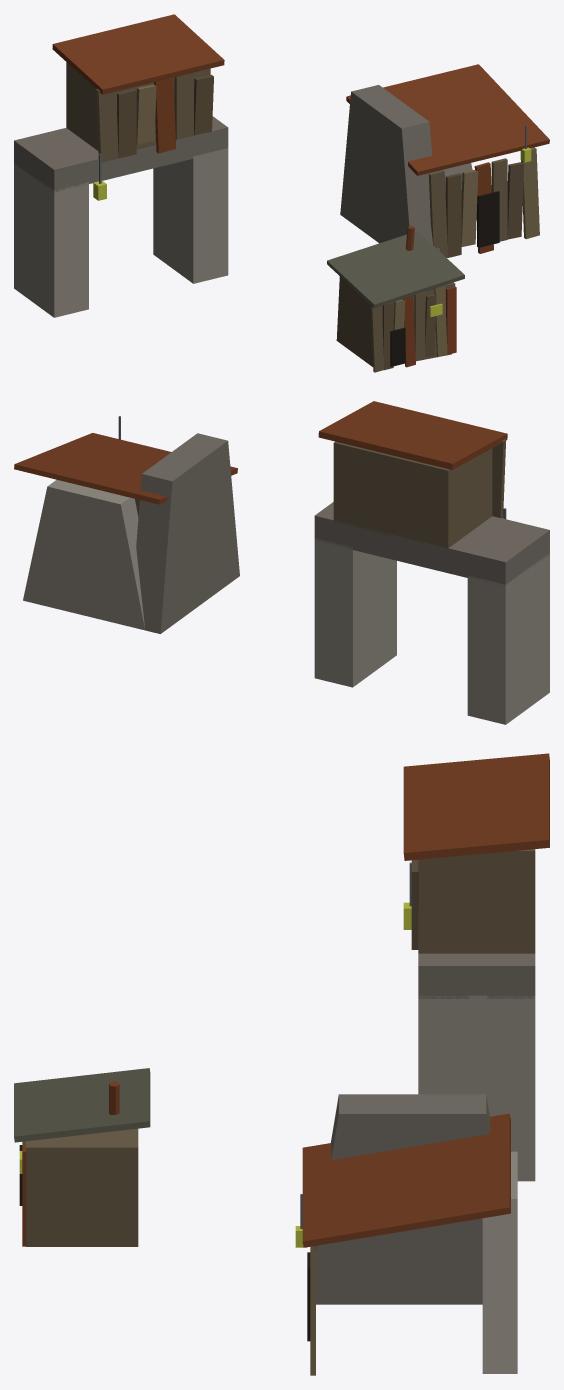
Rendered from ratfolk_compound_broken.glb.
The picture shows the model from 3 angles, top to bottom: view 1: azimuth 30°, elevation 25°; view 2: azimuth 150°, elevation 25°; view 3: azimuth 270°, elevation 25°; orthographic projection. The views are drawn at different scales.
Parts seen in each view (by area): view 1: ratfolk_compound_piece3, ratfolk_compound_piece7, ratfolk_compound_piece9, ratfolk_compound_piece0, ratfolk_compound_piece1, ratfolk_compound_piece6, ratfolk_compound_piece8, ratfolk_compound_piece2, ratfolk_compound_piece12, ratfolk_compound_piece10, ratfolk_compound_piece4, ratfolk_compound_piece5; view 2: ratfolk_compound_piece3, ratfolk_compound_piece7, ratfolk_compound_piece2, ratfolk_compound_piece11, ratfolk_compound_piece5, ratfolk_compound_piece0, ratfolk_compound_piece10, ratfolk_compound_piece4, ratfolk_compound_piece8, ratfolk_compound_piece1; view 3: ratfolk_compound_piece7, ratfolk_compound_piece3, ratfolk_compound_piece8, ratfolk_compound_piece2, ratfolk_compound_piece9, ratfolk_compound_piece12, ratfolk_compound_piece4, ratfolk_compound_piece6, ratfolk_compound_piece5, ratfolk_compound_piece1.
Boxes of the visible parts, box(x1,y1,x2,y2) form: ratfolk_compound_piece3: box(14, 47, 228, 284); ratfolk_compound_piece7: box(351, 64, 549, 252); ratfolk_compound_piece9: box(327, 254, 464, 372); ratfolk_compound_piece0: box(14, 196, 88, 317); ratfolk_compound_piece1: box(85, 65, 394, 260); ratfolk_compound_piece6: box(400, 170, 485, 252); ratfolk_compound_piece8: box(103, 27, 224, 119); ratfolk_compound_piece2: box(52, 14, 349, 154); ratfolk_compound_piece12: box(362, 226, 458, 269); ratfolk_compound_piece10: box(348, 91, 371, 237); ratfolk_compound_piece4: box(226, 196, 484, 275); ratfolk_compound_piece5: box(340, 152, 355, 225); ratfolk_compound_piece3: box(318, 404, 549, 723); ratfolk_compound_piece7: box(14, 416, 236, 616); ratfolk_compound_piece2: box(167, 423, 456, 564); ratfolk_compound_piece11: box(90, 495, 170, 627); ratfolk_compound_piece5: box(135, 550, 358, 633); ratfolk_compound_piece0: box(503, 560, 549, 724); ratfolk_compound_piece10: box(146, 481, 194, 621); ratfolk_compound_piece4: box(204, 516, 330, 681); ratfolk_compound_piece8: box(331, 401, 435, 503); ratfolk_compound_piece1: box(397, 406, 507, 469); ratfolk_compound_piece7: box(295, 1094, 517, 1375); ratfolk_compound_piece3: box(403, 754, 537, 1108); ratfolk_compound_piece8: box(403, 781, 508, 1019); ratfolk_compound_piece2: box(488, 753, 549, 1030); ratfolk_compound_piece9: box(14, 1068, 150, 1246); ratfolk_compound_piece12: box(30, 1081, 150, 1214); ratfolk_compound_piece4: box(316, 1082, 535, 1304); ratfolk_compound_piece6: box(61, 1147, 329, 1270); ratfolk_compound_piece5: box(477, 988, 535, 1304); ratfolk_compound_piece1: box(99, 762, 455, 1103).
Size of the model in its own units: 5.24 by 2.57 by 3.67.
